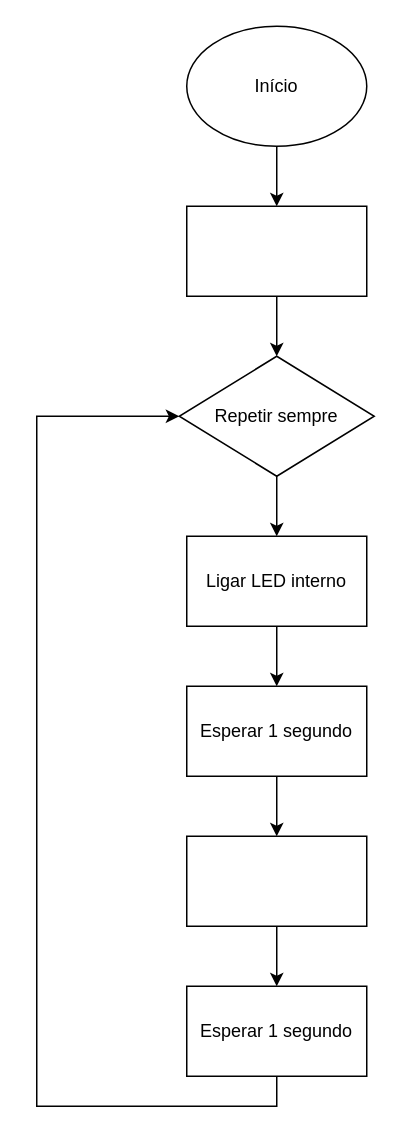
The diagram is 401 pixels wide and 1145 high, and some of its shapes have lost their labels. Each missing label, with the centre of its shape:
"Configurar variável do LED interno como saída" goes at [276,250].
"Desligar LED interno" goes at [276,880].
